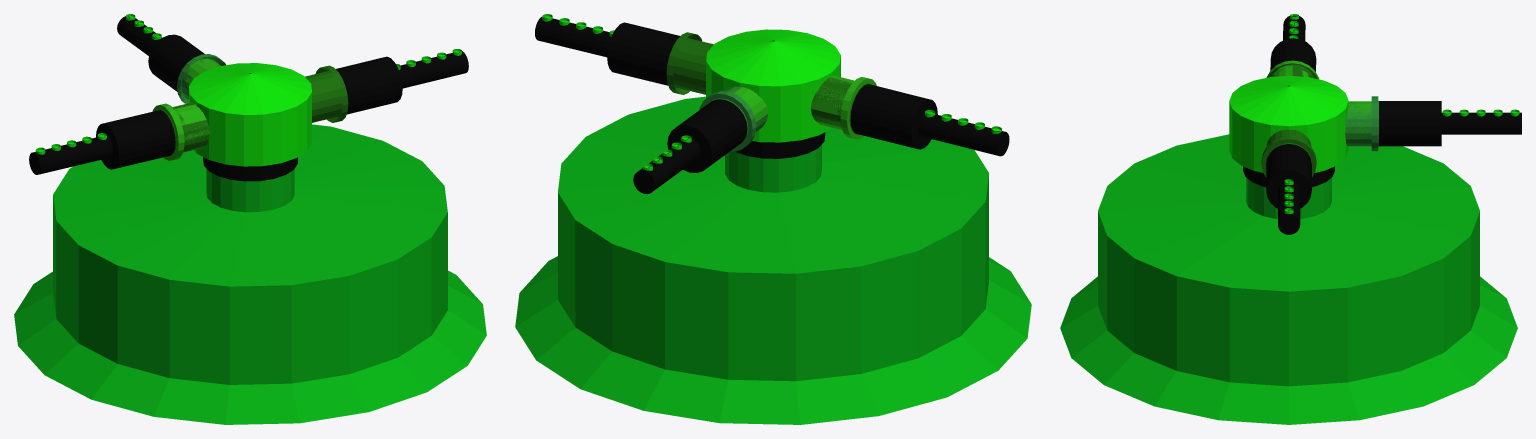
File: Slime sprinkler.fbx
3 renders of one model, left to right at view 1: azimuth 30°, elevation 25°; view 2: azimuth 150°, elevation 25°; view 3: azimuth 270°, elevation 25°, orthographic. The views are drawn at different scales.
Visible parts, largest first — view 1: Cylinder, Cylinder.001, Cylinder.019, Cylinder.002, Cylinder.013; view 2: Cylinder, Cylinder.001, Cylinder.019, Cylinder.002, Cylinder.013; view 3: Cylinder, Cylinder.001, Cylinder.013, Cylinder.002, Cylinder.019.
Boxes of the visible parts, <box> form: Cylinder: <box>14,124,486,424</box>; Cylinder.001: <box>189,63,311,181</box>; Cylinder.019: <box>29,102,209,174</box>; Cylinder.002: <box>305,51,468,122</box>; Cylinder.013: <box>117,16,225,103</box>; Cylinder: <box>515,96,1031,424</box>; Cylinder.001: <box>706,29,840,158</box>; Cylinder.019: <box>810,75,1009,156</box>; Cylinder.002: <box>535,17,713,94</box>; Cylinder.013: <box>633,86,768,194</box>; Cylinder: <box>1060,134,1517,424</box>; Cylinder.001: <box>1229,75,1348,187</box>; Cylinder.013: <box>1345,96,1521,151</box>; Cylinder.002: <box>1261,129,1316,234</box>; Cylinder.019: <box>1266,15,1319,79</box>.
Size of the model in its own units: 104 by 58.91 by 102.
